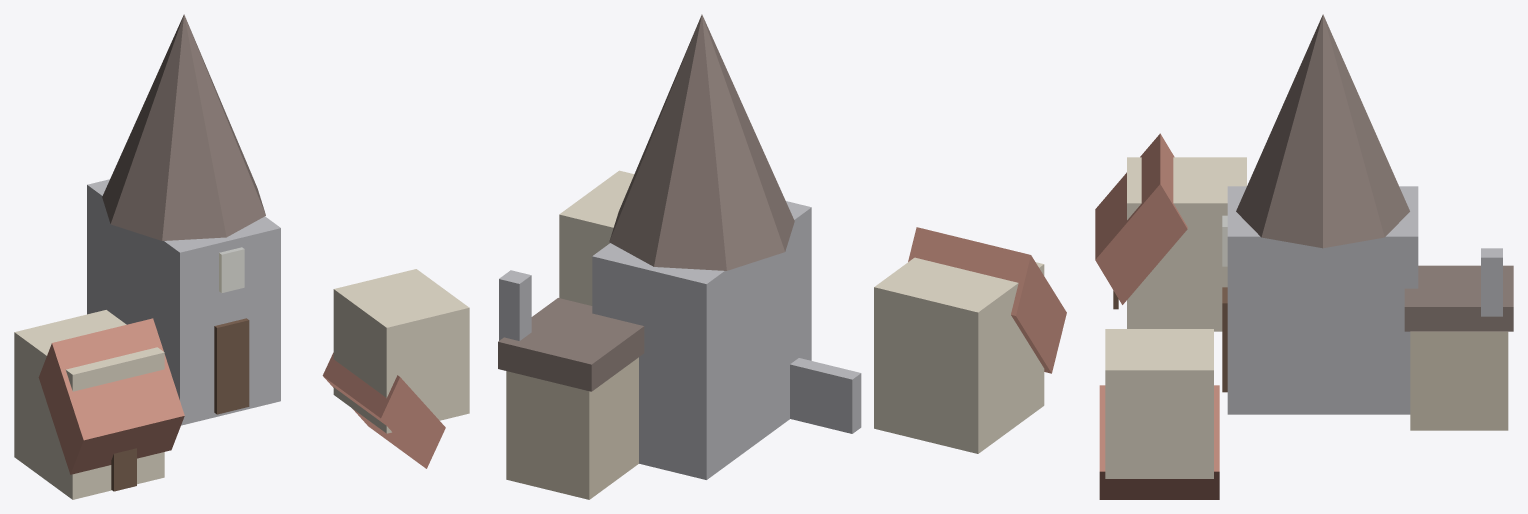
The model's file is city-town-0.glb.
The picture shows the model from 3 angles, left to right: view 1: azimuth 30°, elevation 25°; view 2: azimuth 150°, elevation 25°; view 3: azimuth 270°, elevation 25°; orthographic projection. The views are drawn at different scales.
Parts seen in each view (by area): view 1: city-town-0; view 2: city-town-0; view 3: city-town-0.
Boxes of the visible parts, x1,y1,x2,y2 form: city-town-0: (14,14,469,499); city-town-0: (498,14,1066,499); city-town-0: (1095,14,1513,499).
Bounding box in the file's own units: 0.85 × 0.8486 × 0.7683.
